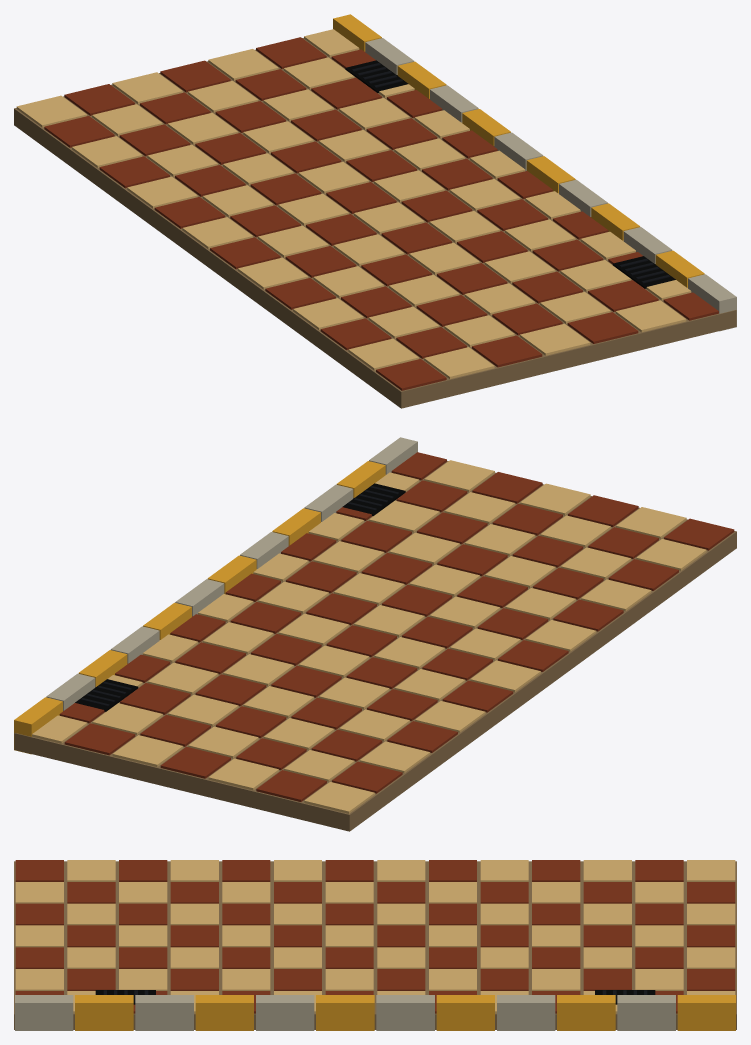
The model's file is PV_StreetPavement.fbx.
3 renders of one model, top to bottom at view 1: azimuth 30°, elevation 25°; view 2: azimuth 150°, elevation 25°; view 3: azimuth 270°, elevation 25°, orthographic. The views are drawn at different scales.
Parts seen in each view (by area): view 1: PV_StreetPavement_LOD0; view 2: PV_StreetPavement_LOD0; view 3: PV_StreetPavement_LOD0.
Boxes of the visible parts, box(x1,y1,x2,y2) form: PV_StreetPavement_LOD0: box(14, 14, 736, 408); PV_StreetPavement_LOD0: box(14, 437, 736, 831); PV_StreetPavement_LOD0: box(14, 860, 736, 1030).
Size of what is drawn, in the model's own units: 4.21 by 0.36 by 8.4.
1 material, 1 textured.
